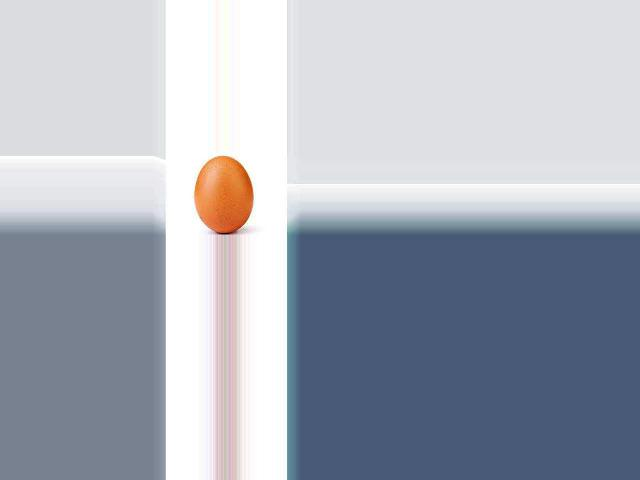egg: (194, 156, 253, 233)
